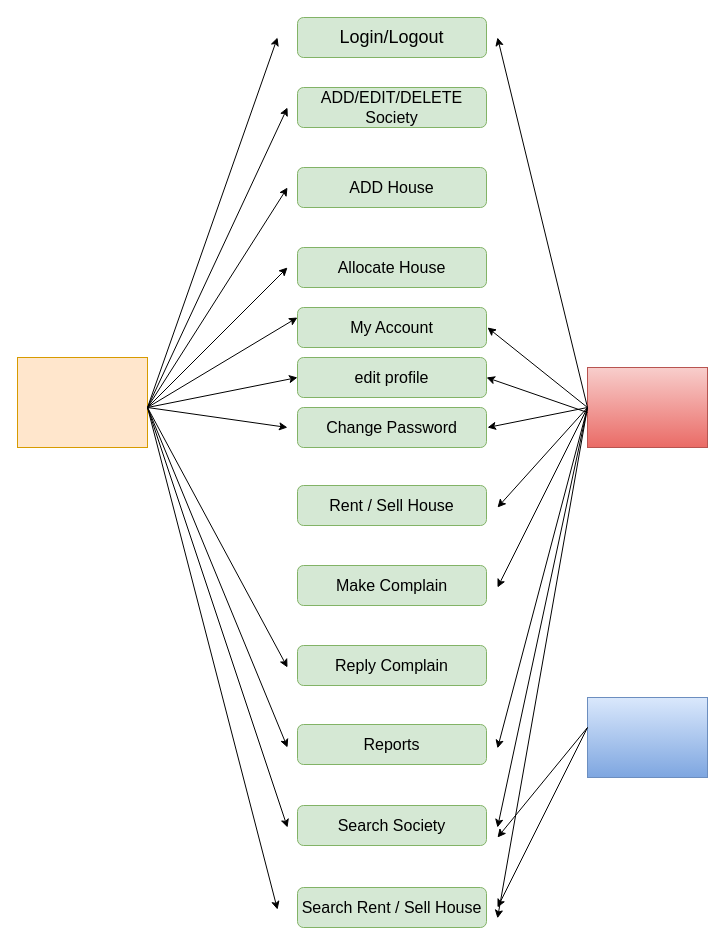
The diagram is 725 pixels wide and 945 high, and some of its shapes have lost their labels. The shapes that lost their labels are listed below. From the top down, each one's box as (x1, y1, x2, y2) in pixels, then its label:
(16, 356, 148, 448): Admin
(586, 366, 708, 448): Member
(586, 696, 708, 778): Visitor
